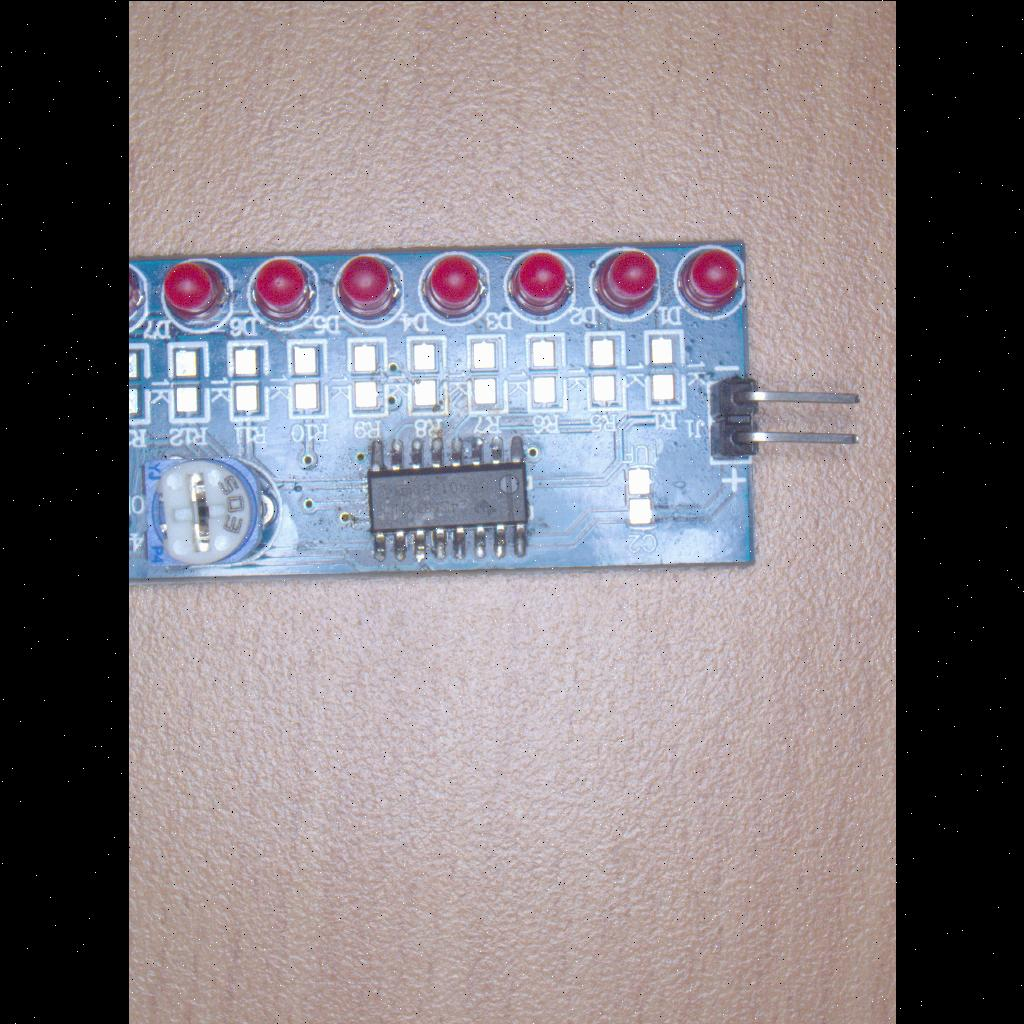NG: (578, 326, 624, 412), (642, 326, 688, 412), (165, 340, 211, 424), (228, 334, 270, 424), (405, 330, 447, 418), (464, 332, 508, 416), (285, 336, 327, 420), (526, 328, 564, 418), (347, 331, 385, 419), (128, 339, 152, 429)
OK: (366, 426, 538, 570)
